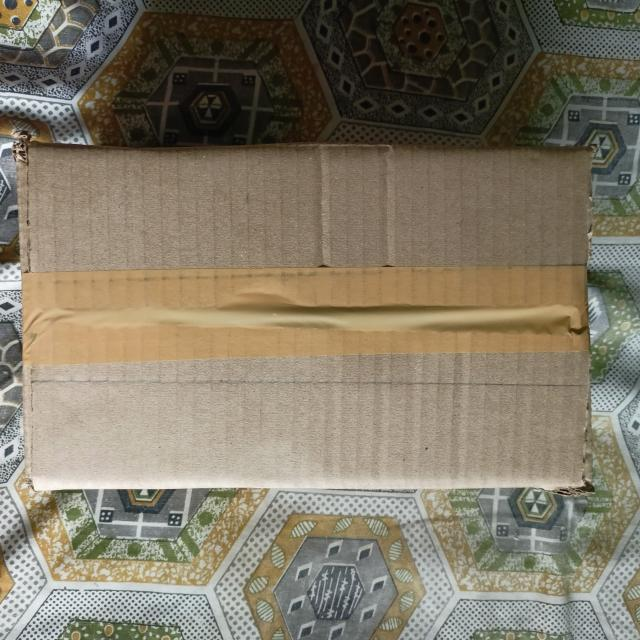box: (22, 145, 595, 487)
